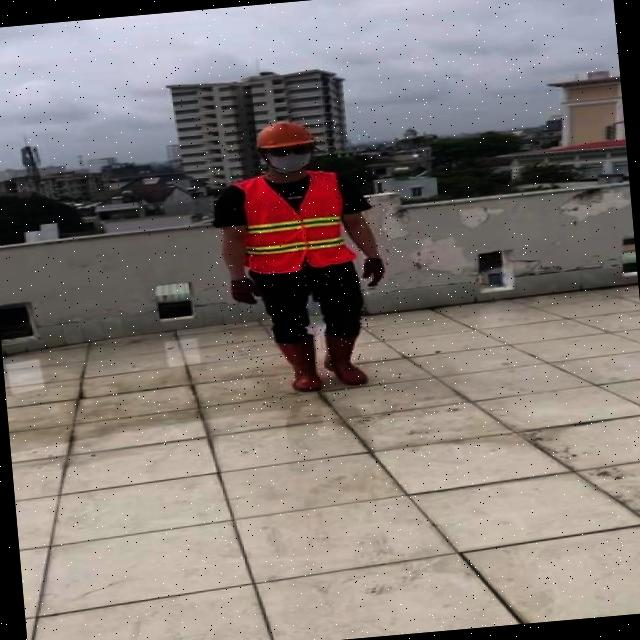boots: (275, 336, 323, 394), (319, 329, 364, 387)
helmet: (251, 118, 315, 152)
vest: (236, 168, 353, 274)
